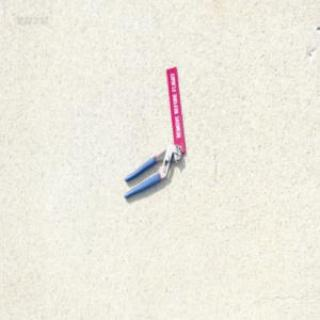LuggageTagtrack_idkeyframe: (166, 65, 186, 153)
Pliertrack_idkeyframe: (123, 142, 182, 199)
